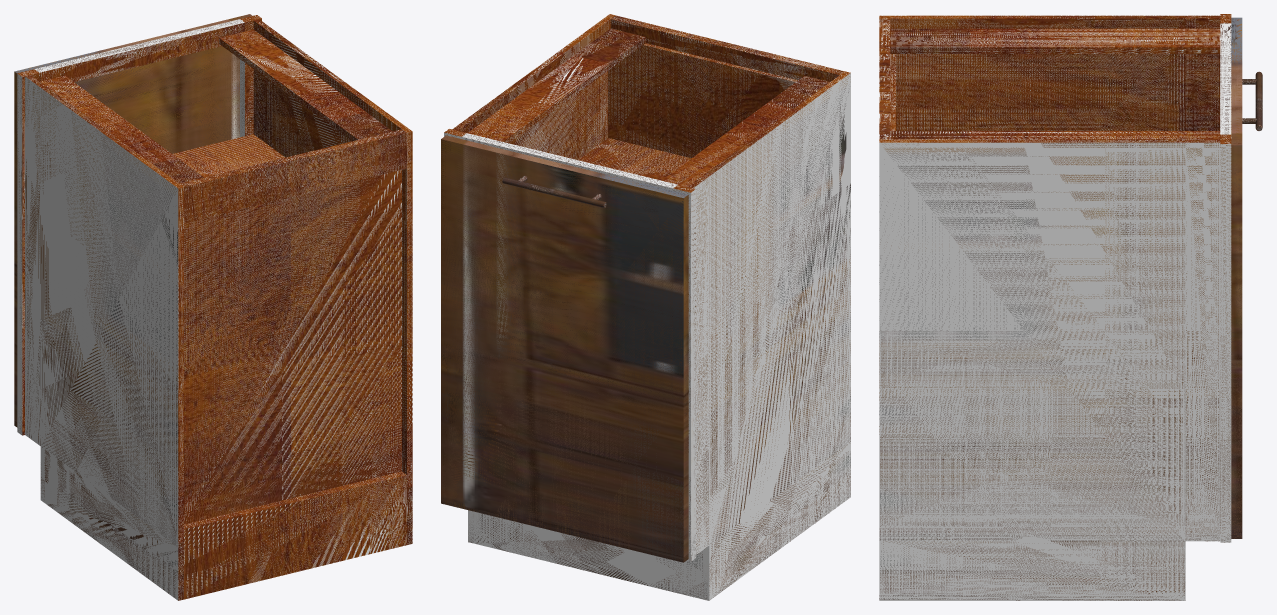
3 views of the same model, side by side, from view 1: azimuth 30°, elevation 25°; view 2: azimuth 150°, elevation 25°; view 3: azimuth 270°, elevation 25° (orthographic). The views are drawn at different scales.
Visible parts, largest first — view 1: mesh5_mesh5-geometry, mesh8_mesh8-geometry, mesh13_mesh13-geometry, mesh20_mesh20-geometry, mesh4_mesh4-geometry, mesh11_mesh11-geometry, mesh9_mesh9-geometry, mesh7_mesh7-geometry, mesh15_mesh15-geometry, mesh6_mesh6-geometry, mesh3_mesh3-geometry, mesh16_mesh16-geometry (+2 smaller); view 2: mesh20_mesh20-geometry, mesh8_mesh8-geometry, mesh5_mesh5-geometry, mesh9_mesh9-geometry, mesh14_mesh14-geometry, mesh11_mesh11-geometry, mesh15_mesh15-geometry, mesh7_mesh7-geometry, mesh4_mesh4-geometry, mesh16_mesh16-geometry, mesh3_mesh3-geometry, mesh1_mesh1-geometry (+2 smaller); view 3: mesh11_mesh11-geometry, mesh8_mesh8-geometry, mesh12_mesh12-geometry, mesh10_mesh10-geometry, mesh16_mesh16-geometry, mesh20_mesh20-geometry, mesh3_mesh3-geometry, mesh7_mesh7-geometry, mesh15_mesh15-geometry, mesh4_mesh4-geometry, mesh6_mesh6-geometry.
Boxes of the visible parts, left/top/right/bottom form: mesh5_mesh5-geometry: left=184, top=170, right=401, bottom=524; mesh8_mesh8-geometry: left=40, top=86, right=183, bottom=546; mesh13_mesh13-geometry: left=184, top=471, right=406, bottom=599; mesh20_mesh20-geometry: left=14, top=14, right=252, bottom=427; mesh4_mesh4-geometry: left=179, top=129, right=406, bottom=222; mesh11_mesh11-geometry: left=269, top=30, right=412, bottom=491; mesh9_mesh9-geometry: left=40, top=447, right=183, bottom=600; mesh7_mesh7-geometry: left=25, top=75, right=45, bottom=445; mesh15_mesh15-geometry: left=219, top=29, right=392, bottom=141; mesh6_mesh6-geometry: left=34, top=19, right=244, bottom=82; mesh3_mesh3-geometry: left=17, top=15, right=261, bottom=435; mesh16_mesh16-geometry: left=40, top=75, right=203, bottom=183; mesh20_mesh20-geometry: left=441, top=135, right=688, bottom=562; mesh8_mesh8-geometry: left=704, top=71, right=850, bottom=544; mesh5_mesh5-geometry: left=608, top=43, right=797, bottom=158; mesh9_mesh9-geometry: left=703, top=442, right=850, bottom=600; mesh14_mesh14-geometry: left=474, top=511, right=703, bottom=599; mesh11_mesh11-geometry: left=468, top=14, right=615, bottom=159; mesh15_mesh15-geometry: left=468, top=28, right=645, bottom=143; mesh7_mesh7-geometry: left=687, top=175, right=709, bottom=554; mesh4_mesh4-geometry: left=610, top=15, right=844, bottom=81; mesh16_mesh16-geometry: left=661, top=75, right=829, bottom=186; mesh3_mesh3-geometry: left=444, top=129, right=695, bottom=561; mesh1_mesh1-geometry: left=578, top=138, right=691, bottom=180; mesh11_mesh11-geometry: left=879, top=139, right=1185, bottom=541; mesh8_mesh8-geometry: left=879, top=15, right=1185, bottom=130; mesh12_mesh12-geometry: left=879, top=541, right=1185, bottom=600; mesh10_mesh10-geometry: left=1185, top=139, right=1220, bottom=541; mesh16_mesh16-geometry: left=890, top=28, right=1220, bottom=53; mesh20_mesh20-geometry: left=1231, top=17, right=1242, bottom=538; mesh3_mesh3-geometry: left=1220, top=14, right=1231, bottom=542; mesh7_mesh7-geometry: left=1185, top=15, right=1220, bottom=130; mesh15_mesh15-geometry: left=890, top=131, right=1220, bottom=139; mesh4_mesh4-geometry: left=879, top=18, right=890, bottom=139; mesh6_mesh6-geometry: left=1220, top=23, right=1231, bottom=134.
Size of the model in its own units: 0.4366 by 0.7172 by 0.5431.
